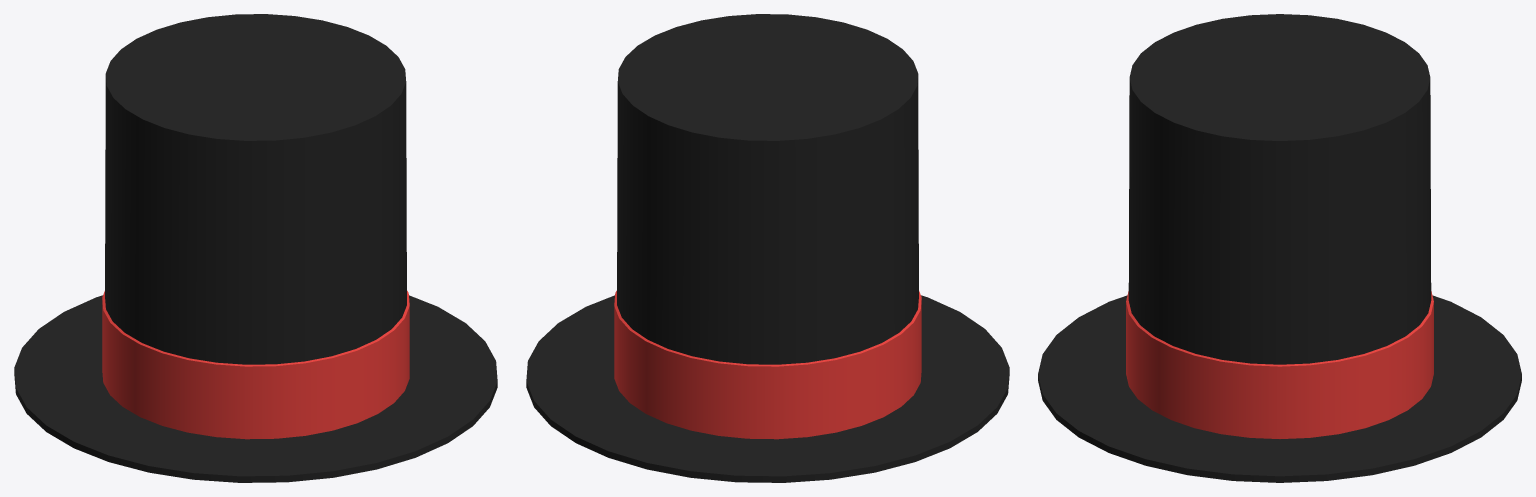
File: top_hat.fbx
3 renders of one model, left to right at view 1: azimuth 30°, elevation 25°; view 2: azimuth 150°, elevation 25°; view 3: azimuth 270°, elevation 25°, orthographic.
Visible parts, largest first — view 1: Circle.1811; view 2: Circle.1811; view 3: Circle.1811.
Boxes of the visible parts, x1,y1,x2,y2 form: Circle.1811: (14, 14, 497, 482); Circle.1811: (526, 14, 1009, 482); Circle.1811: (1038, 14, 1521, 482).
Bounding box in the file's own units: 200 × 138 × 200.
Materials: 1 (1 with a texture image).
